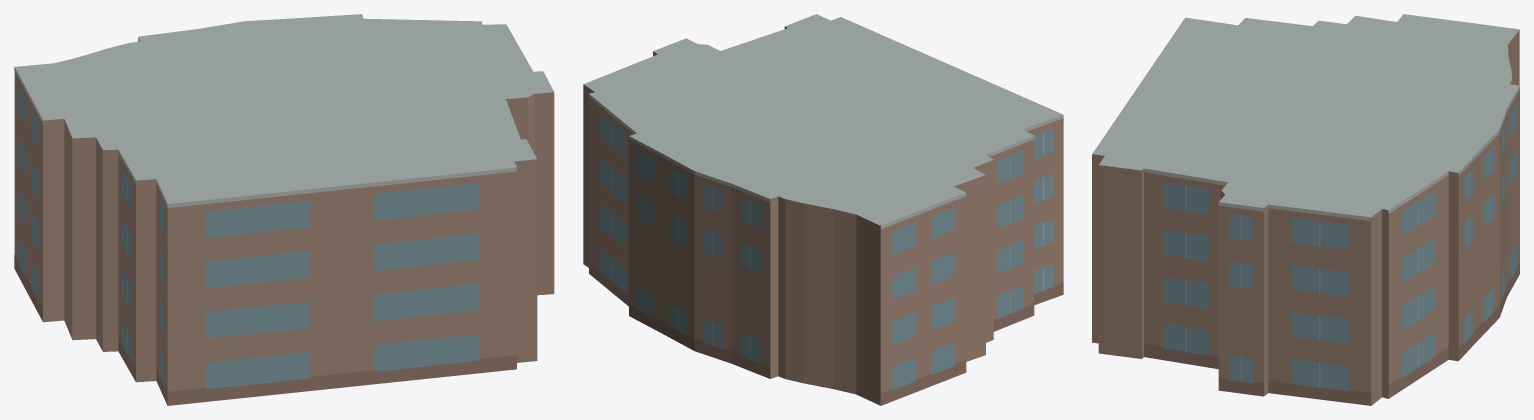
Rendered from survey-upis-32670147.glb.
The picture shows the model from 3 angles, left to right: view 1: azimuth 30°, elevation 25°; view 2: azimuth 150°, elevation 25°; view 3: azimuth 270°, elevation 25°; orthographic projection. The views are drawn at different scales.
Visible parts, largest first — view 1: survey-upis-32670147.tmp; view 2: survey-upis-32670147.tmp; view 3: survey-upis-32670147.tmp.
Boxes of the visible parts, x1,y1,x2,y2 form: survey-upis-32670147.tmp: (14, 14, 554, 405); survey-upis-32670147.tmp: (583, 14, 1063, 405); survey-upis-32670147.tmp: (1092, 14, 1519, 405).
Size of the model in its own units: 28.48 by 12.3 by 25.31.
